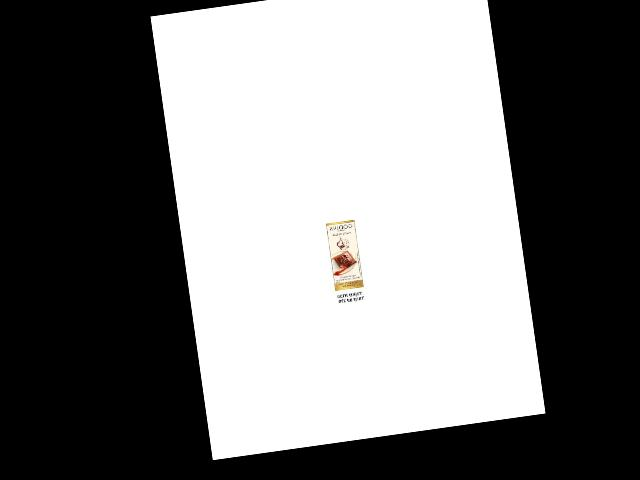chocolate: (323, 218, 363, 293)
